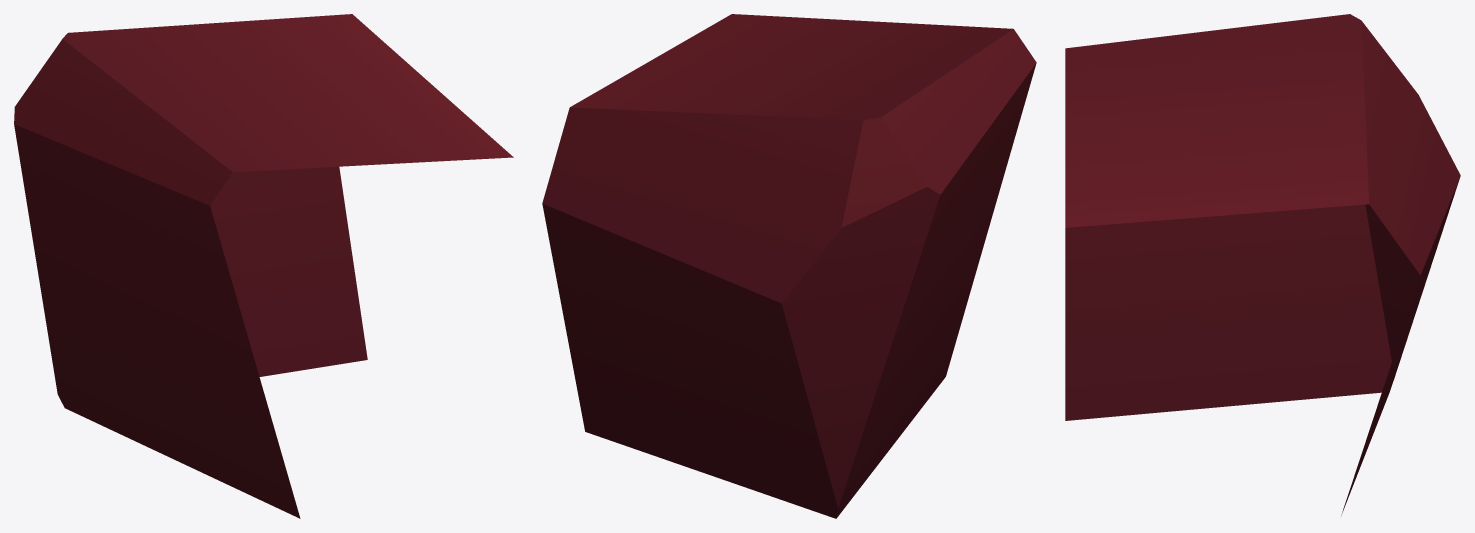
The model's file is fragment_6.obj.
3 views of the same model, side by side, from view 1: azimuth 30°, elevation 25°; view 2: azimuth 150°, elevation 25°; view 3: azimuth 270°, elevation 25° (orthographic). The views are drawn at different scales.
Parts seen in each view (by area): view 1: BossFragment6; view 2: BossFragment6; view 3: BossFragment6.
Part boxes in pixels (box(x1,y1,x2,y2)): BossFragment6: box(14, 14, 513, 518); BossFragment6: box(542, 14, 1036, 518); BossFragment6: box(1065, 14, 1460, 515).
Bounding box in the file's own units: 1.21 × 1.27 × 1.24.
1 material, 1 textured.
